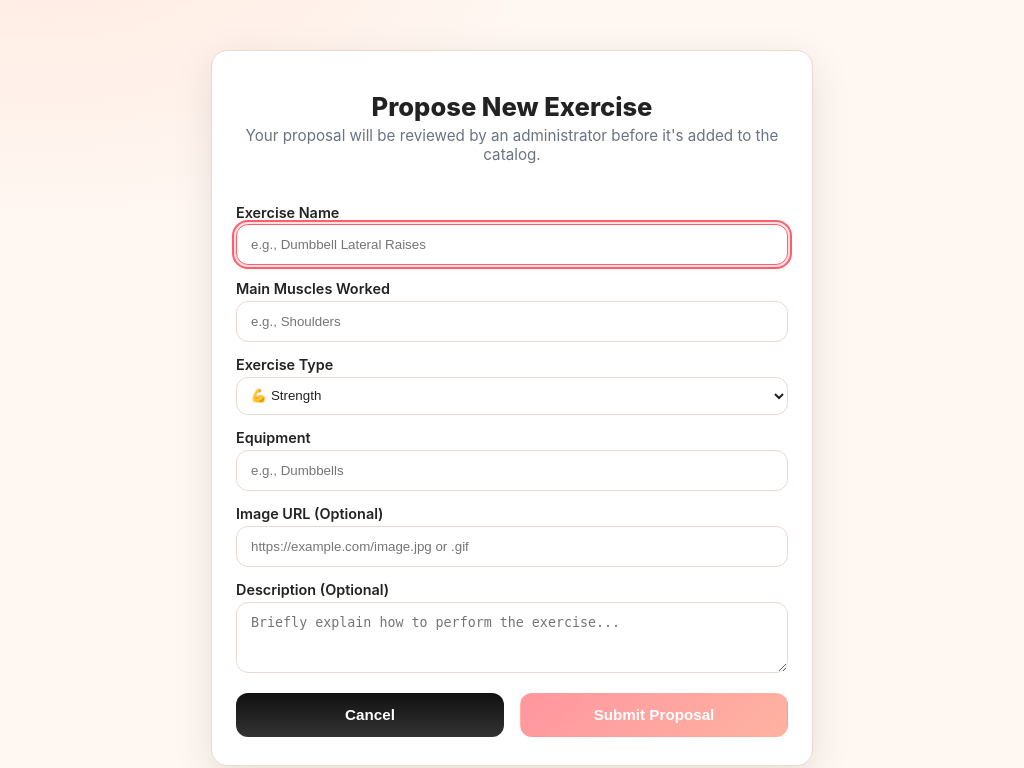
Test: CreateExercisePage › handles submission error
Type "Burpee" into the field labelled "Exercise Name" at [512, 244], box [236,224,788,265]
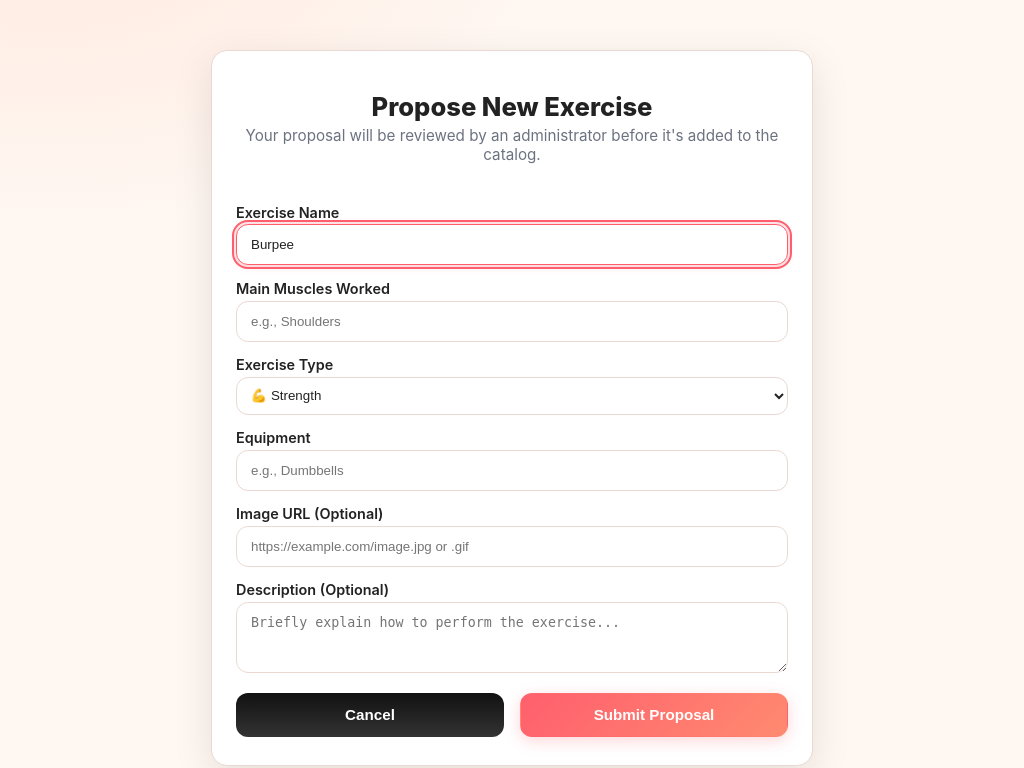
Click the button "Submit Proposal" at [654, 715], box [520,693,788,737]
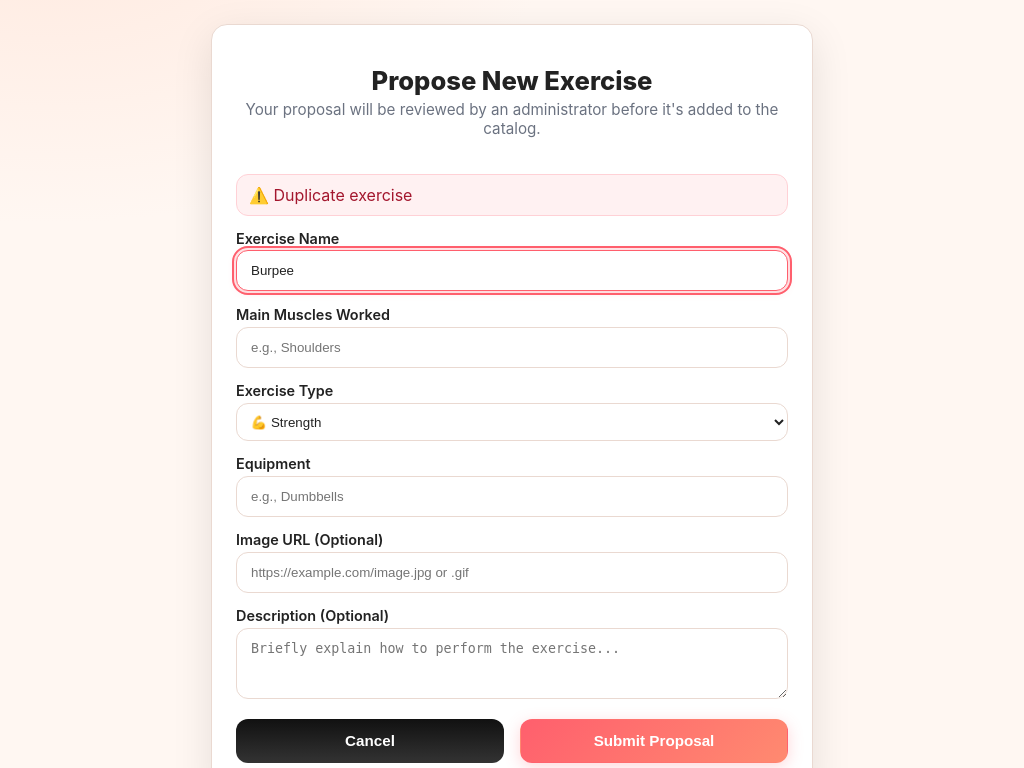
Expected: the text "⚠️ Duplicate exercise" is shown, [236,174,788,216]
